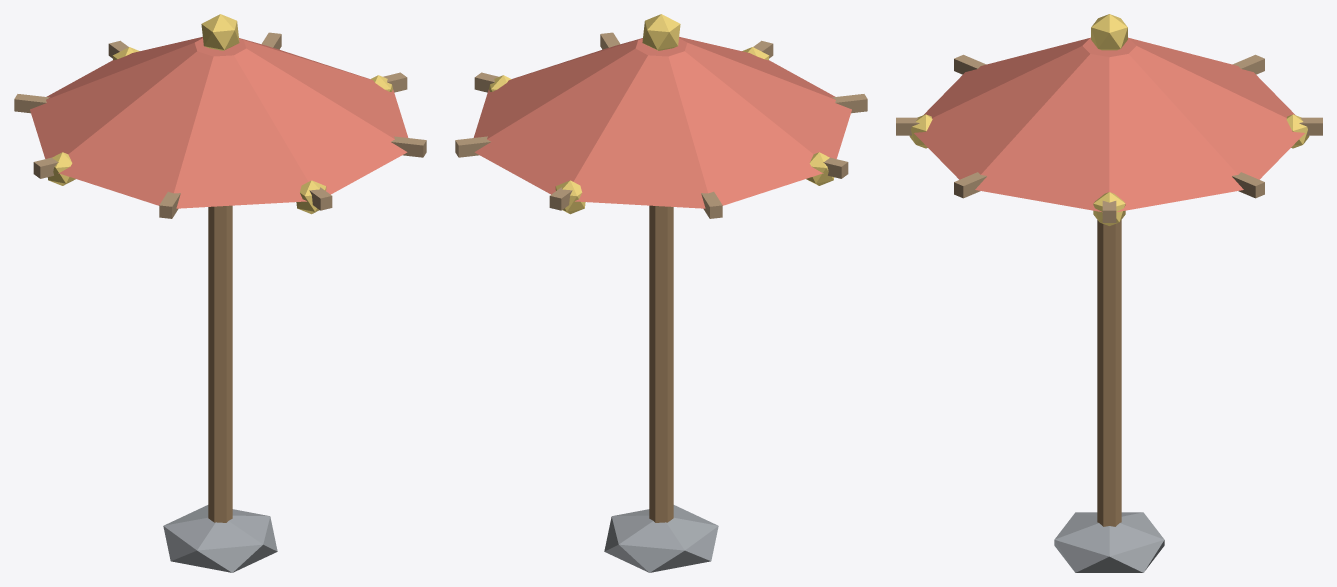
The model's file is market_umbrella.glb.
3 renders of one model, left to right at view 1: azimuth 30°, elevation 25°; view 2: azimuth 150°, elevation 25°; view 3: azimuth 270°, elevation 25°, orthographic.
Visible parts, largest first — view 1: canopy, pole, foot, finial.001, rib_7; view 2: canopy, pole, foot, finial.001, rib_1; view 3: canopy, pole, foot, finial.001, fringe_0, rib_1, rib_7.
Boxes of the visible parts, x1,y1,x2,y2 form: canopy: (30, 37, 408, 208); pole: (208, 205, 232, 522); foot: (163, 505, 277, 572); finial.001: (201, 14, 239, 50); rib_7: (391, 136, 426, 157); canopy: (473, 37, 851, 208); pole: (649, 205, 673, 522); foot: (604, 505, 718, 572); finial.001: (642, 14, 680, 50); rib_1: (455, 136, 490, 157); canopy: (914, 37, 1304, 212); pole: (1097, 220, 1121, 526); foot: (1054, 512, 1164, 572); finial.001: (1091, 14, 1127, 50); fringe_0: (1093, 192, 1125, 225); rib_1: (1232, 172, 1264, 198); rib_7: (954, 172, 986, 198).
Size of the model in its own units: 1.58 by 2.26 by 1.58.
